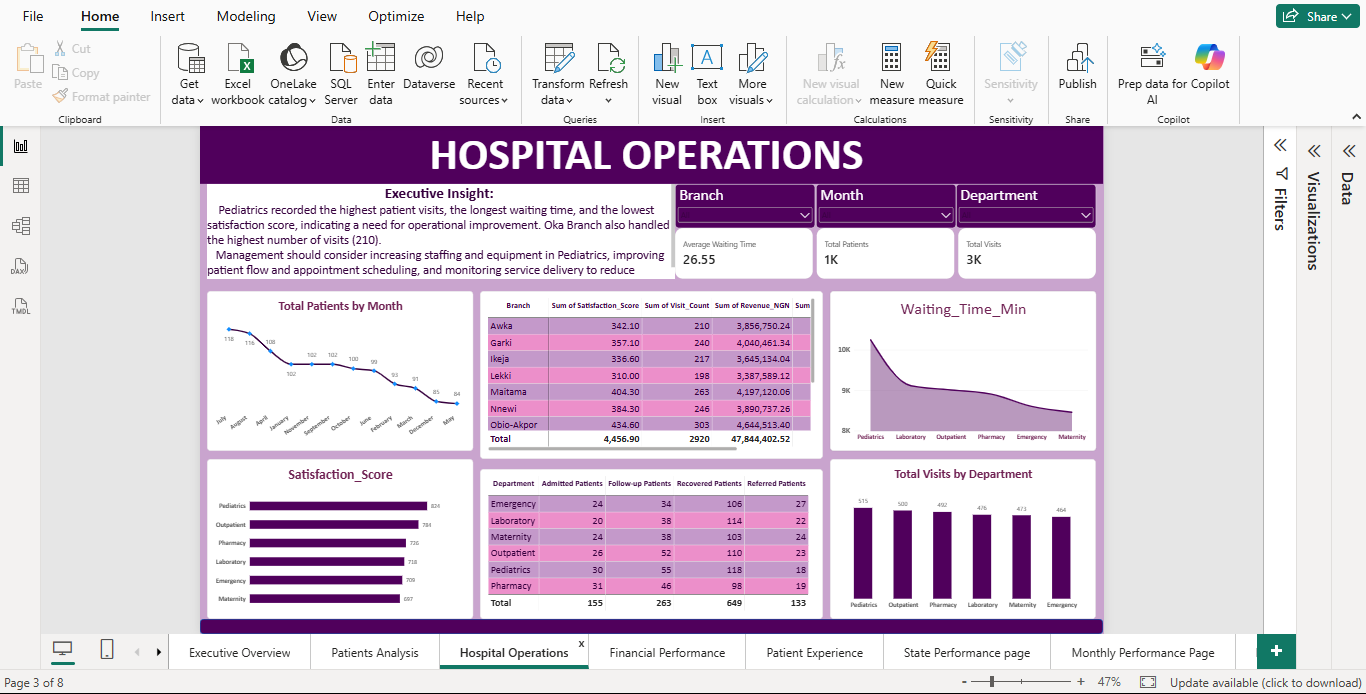

Layout of this report page (visuals, bound fields, positions):
{"tool":"powerbi","page":{"name":"Hospital Operations ","canvas":[1920,1080],"ordinal":2},"visuals":[{"type":"textbox","box":[0,0,1919.8,123.3],"z":0},{"type":"clusteredColumnChart","fields":{"Category":["Patient_Visits.Department"],"Y":["All Measures.Total Visits"]},"box":[1339.4,708,565,340],"z":1000},{"type":"areaChart","title":"Waiting_Time_Min ","fields":{"Category":["Patient_Visits.Department"],"Y":["Sum(Patient_Visits.Waiting_Time_Min)"]},"box":[1339.4,350.8,565.5,340],"z":2000},{"type":"barChart","title":"Satisfaction_Score","fields":{"Category":["Patient_Visits.Department"],"Y":["Sum(Patient_Visits.Satisfaction_Score)"]},"box":[14.9,708,565.5,340.2],"z":3000},{"type":"tableEx","fields":{"Values":["Patient_Visits.Department","All Measures.Admitted Patients","All Measures.Follow-up Patients","All Measures.Recovered Patients","All Measures.Referred Patients"]},"box":[595.3,729.2,729.2,318.9],"z":4000},{"type":"pivotTable","fields":{"Rows":["Patient_Visits.Branch"],"Values":["Sum(Patient_Visits.Satisfaction_Score)","Sum(Patient_Visits.Visit_Count)","Sum(Patient_Visits.Revenue_NGN)","Sum(Patient_Visits.Waiting_Time_Min)"]},"box":[595.3,350.8,729.2,357.2],"z":5000},{"type":"lineChart","fields":{"Category":["Date_Table.Month"],"Y":["All Measures.Total Patients"]},"box":[14.9,350.8,566,340],"z":6000},{"type":"slicer","fields":{"Values":["Patient_Visits.Department"]},"box":[1607.2,123.3,297.6,93.5],"z":7000},{"type":"slicer","fields":{"Values":["Date_Table.Month"]},"box":[1309.6,123.3,297.6,93.5],"z":8000},{"type":"slicer","fields":{"Values":["Patient_Visits.Branch"]},"box":[1009.8,123.3,297.6,93.5],"z":9000},{"type":"cardVisual","fields":{"Data":["All Measures.Average Waiting Time","All Measures.Total Patients","All Measures.Total Visits"]},"box":[1009.8,216.9,895,108.4],"z":10000},{"type":"shape","box":[0,1048.1,1919.8,31.9],"z":11000},{"type":"textbox","box":[14.9,123.3,995,202],"z":12000}]}

Visuals, with their boxes on the page's 1920x1080 design canvas (x1, y1, x2, y2). These are canvas units, not pixel positions in the 1366x694 screenshot, which may show the page scaled, cropped or inside an application window:
textbox: left=0, top=0, right=1920, bottom=123
clusteredColumnChart - Patient_Visits.Department x All Measures.Total Visits: left=1339, top=708, right=1904, bottom=1048
"Waiting_Time_Min " areaChart: left=1339, top=351, right=1905, bottom=691
"Satisfaction_Score" barChart: left=15, top=708, right=580, bottom=1048
tableEx - Patient_Visits.Department x All Measures.Admitted Patients: left=595, top=729, right=1324, bottom=1048
pivotTable - Patient_Visits.Branch x Sum(Patient_Visits.Satisfaction_Score): left=595, top=351, right=1324, bottom=708
lineChart - Date_Table.Month x All Measures.Total Patients: left=15, top=351, right=581, bottom=691
slicer - Patient_Visits.Department: left=1607, top=123, right=1905, bottom=217
slicer - Date_Table.Month: left=1310, top=123, right=1607, bottom=217
slicer - Patient_Visits.Branch: left=1010, top=123, right=1307, bottom=217
cardVisual - All Measures.Average Waiting Time x All Measures.Total Patients: left=1010, top=217, right=1905, bottom=325
shape: left=0, top=1048, right=1920, bottom=1080
textbox: left=15, top=123, right=1010, bottom=325
